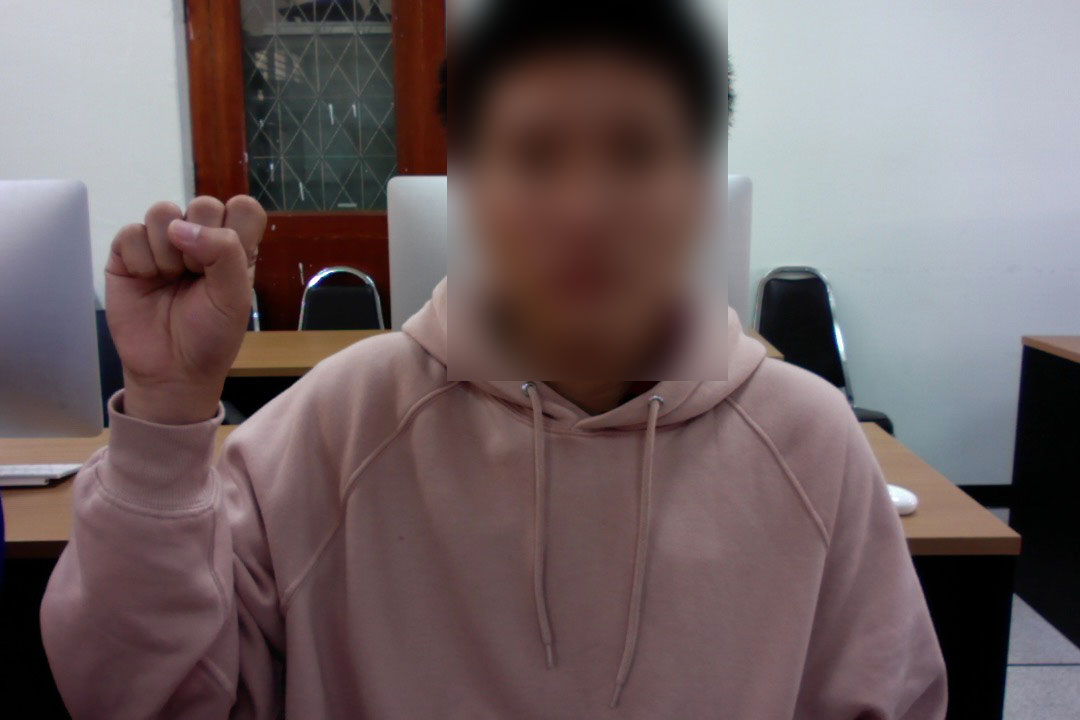sor: (96, 187, 275, 417)
